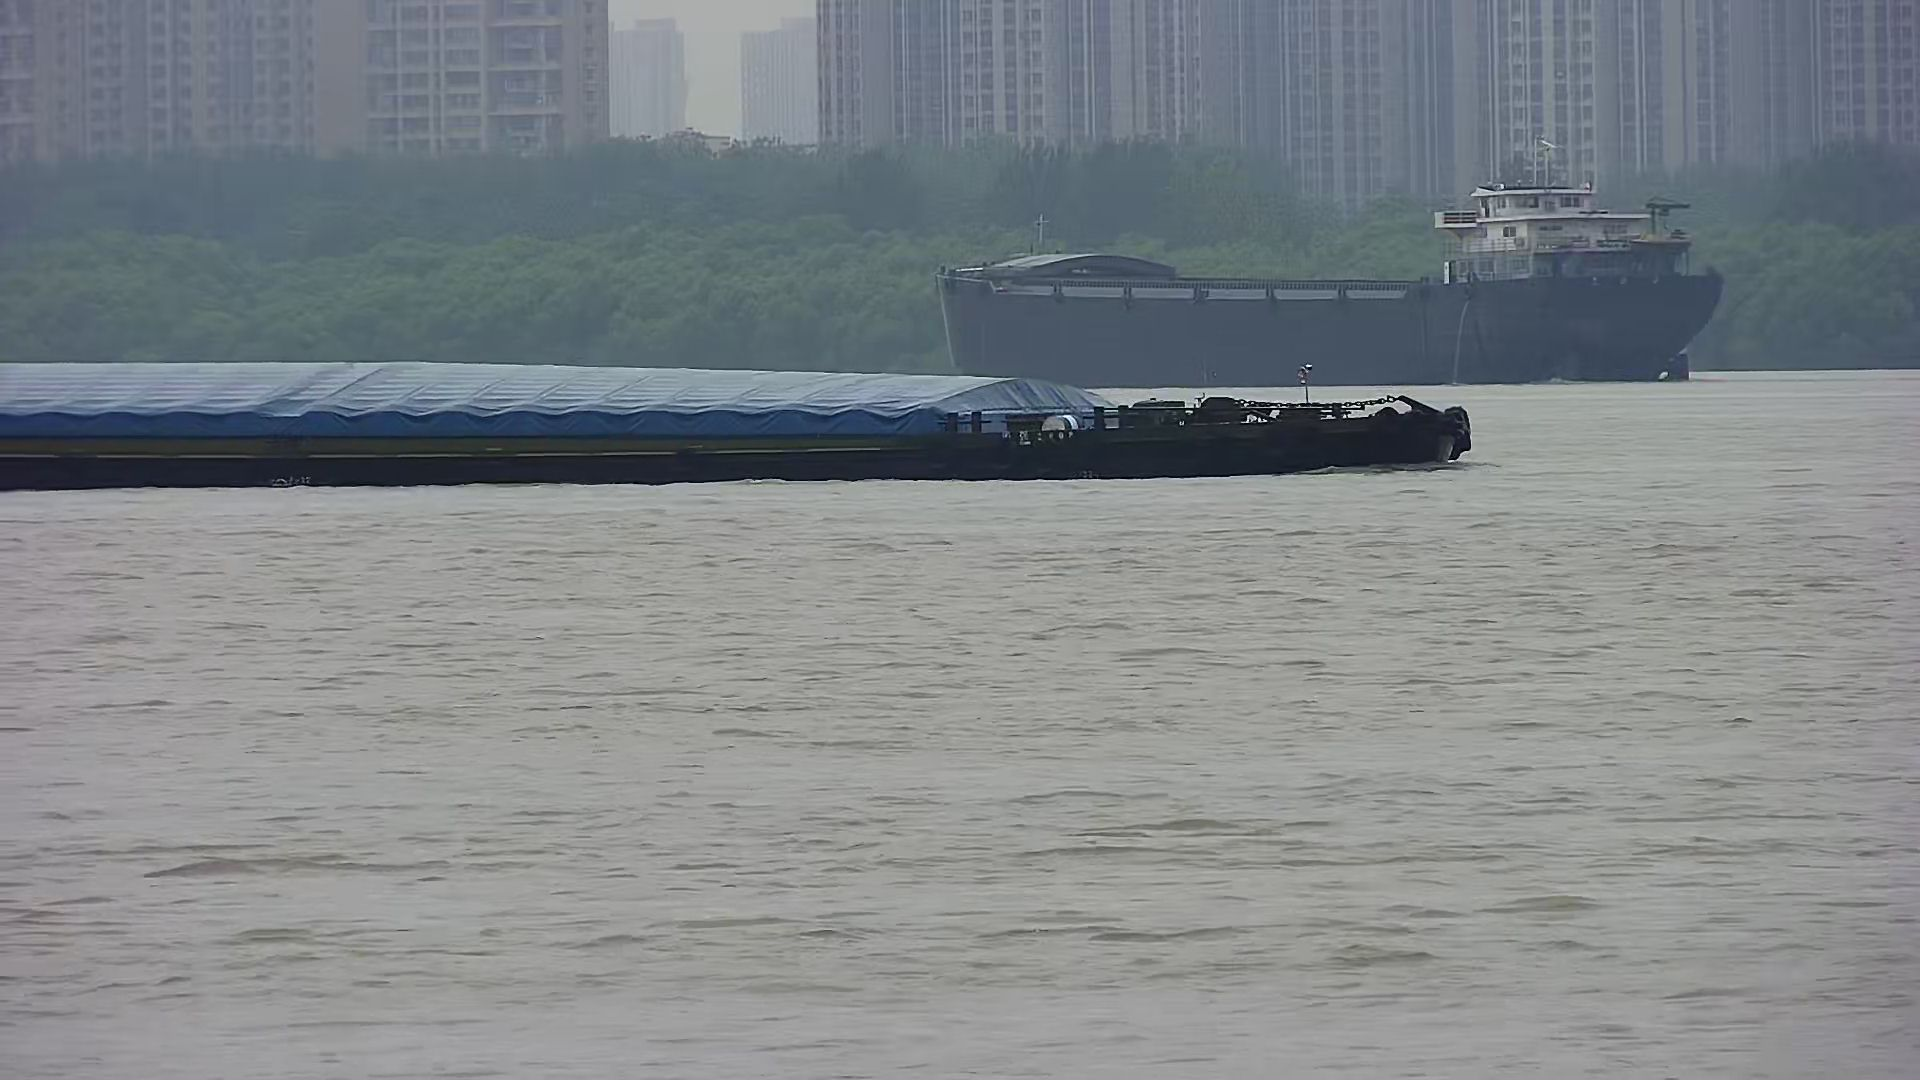ship: (1, 356, 1473, 496), (932, 136, 1721, 388)
